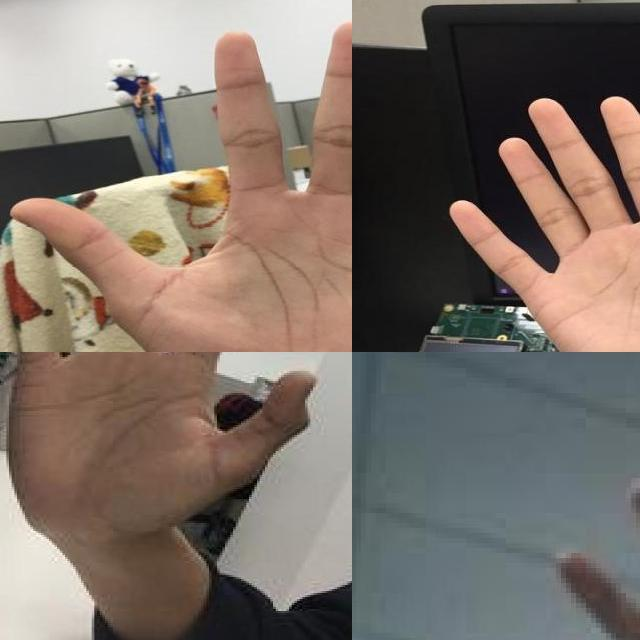hand: (9, 23, 352, 352), (6, 352, 318, 537), (448, 91, 640, 352)
